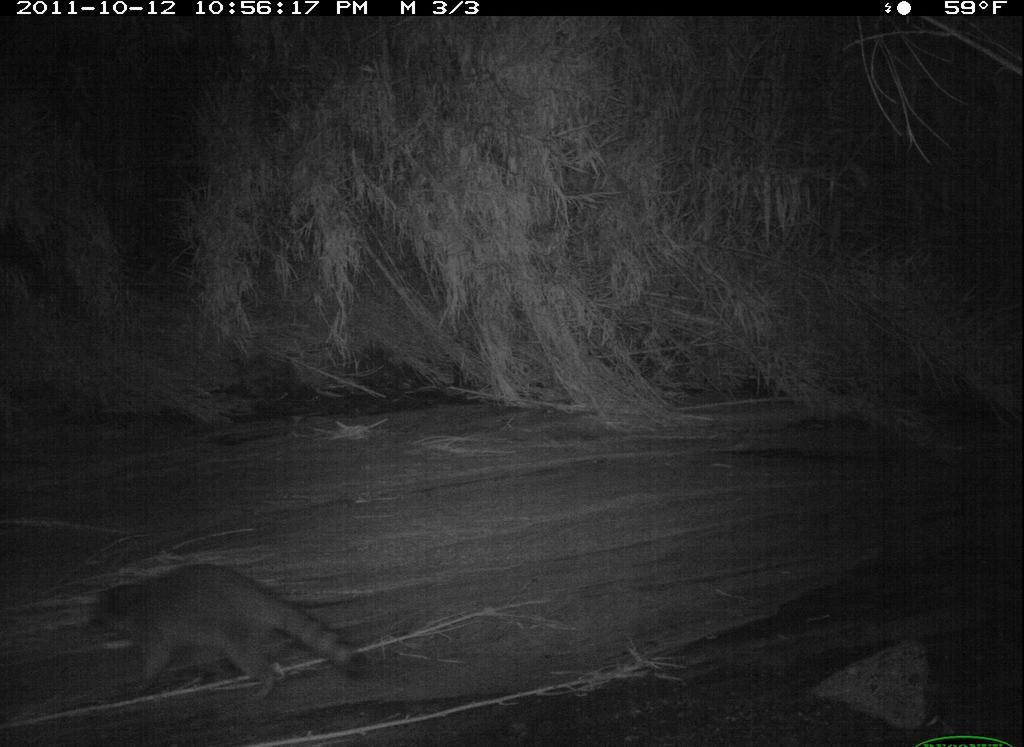raccoon: (79, 555, 378, 711)
